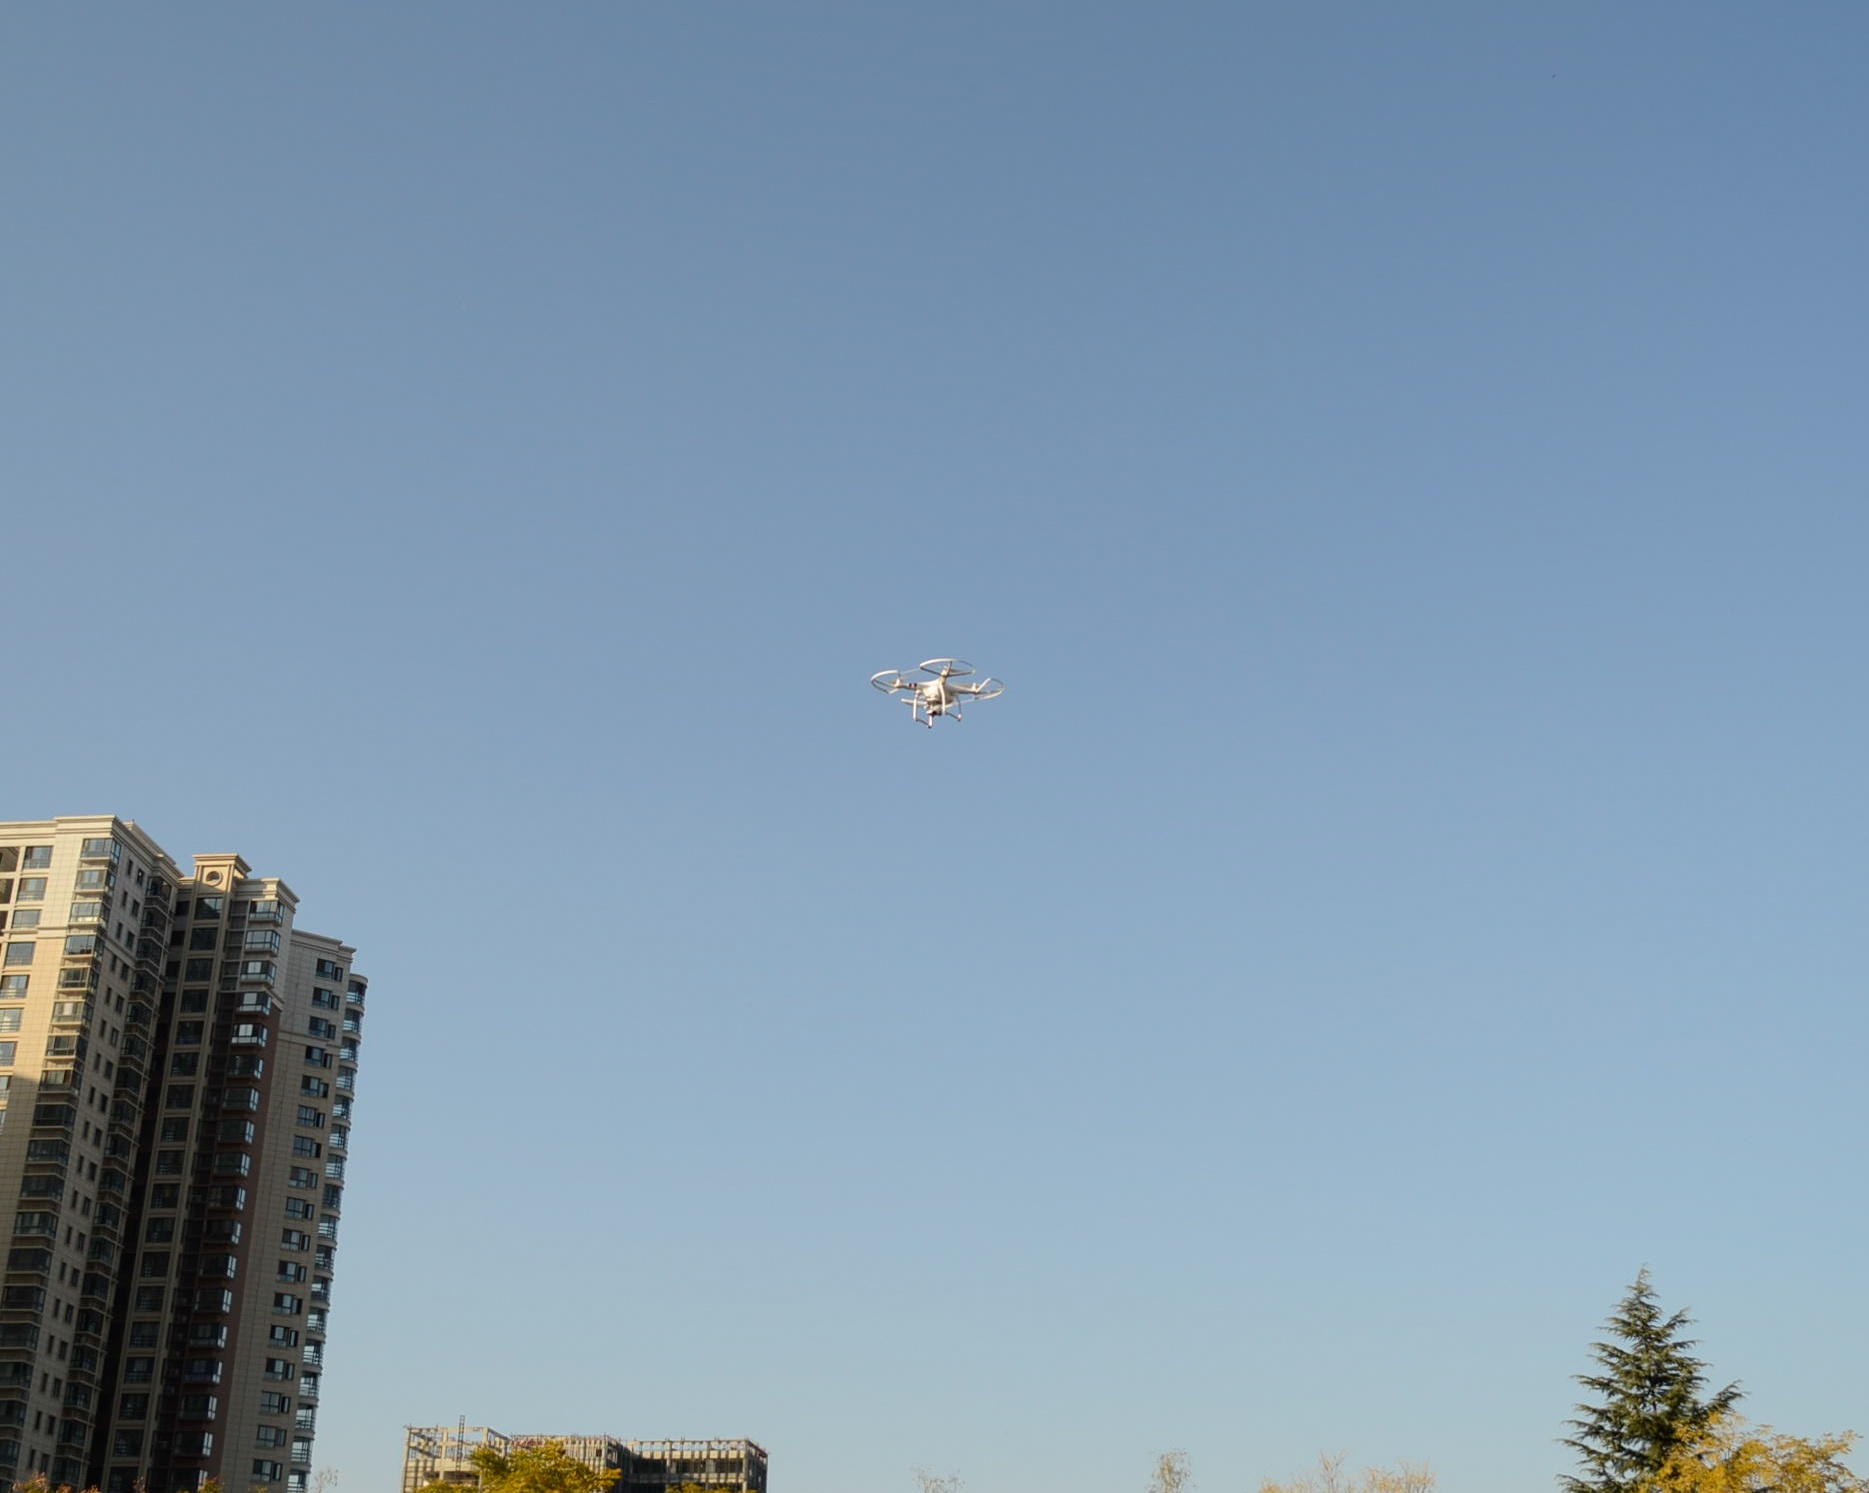DJI: (867, 655, 1008, 724)
